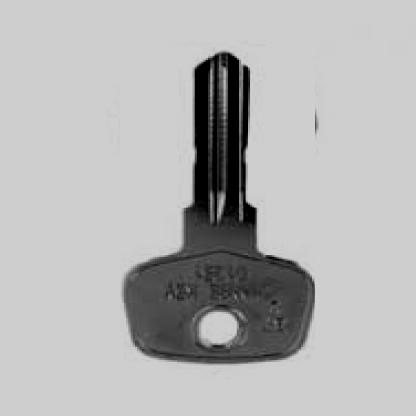key: (120, 47, 315, 370)
